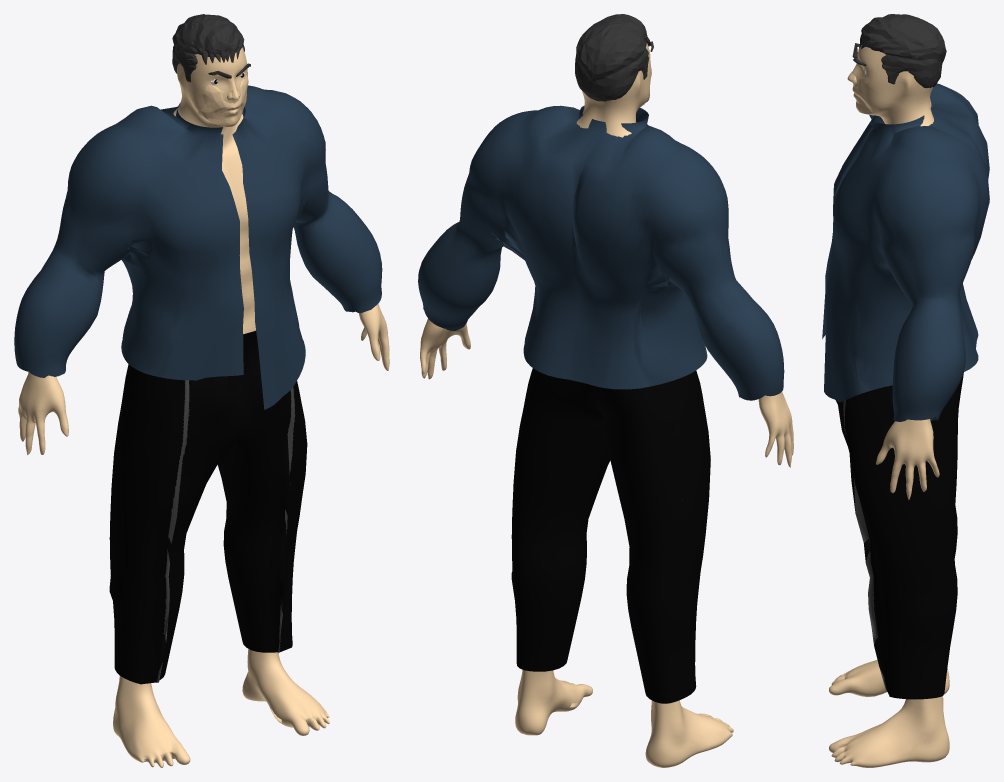
Rendered from Derek Grim.fbx.
The picture shows the model from 3 angles, left to right: view 1: azimuth 30°, elevation 25°; view 2: azimuth 150°, elevation 25°; view 3: azimuth 270°, elevation 25°; orthographic projection.
Visible parts, largest first — view 1: NurbsPath.001; view 2: NurbsPath.001; view 3: NurbsPath.001.
Part boxes in pixels (left/top/right/bottom): NurbsPath.001: left=14, top=14, right=389, bottom=767; NurbsPath.001: left=418, top=14, right=793, bottom=767; NurbsPath.001: left=822, top=14, right=989, bottom=767.
Bounding box in the file's own units: 1113 × 2090 × 449.
Materials: 5 (3 with a texture image).
